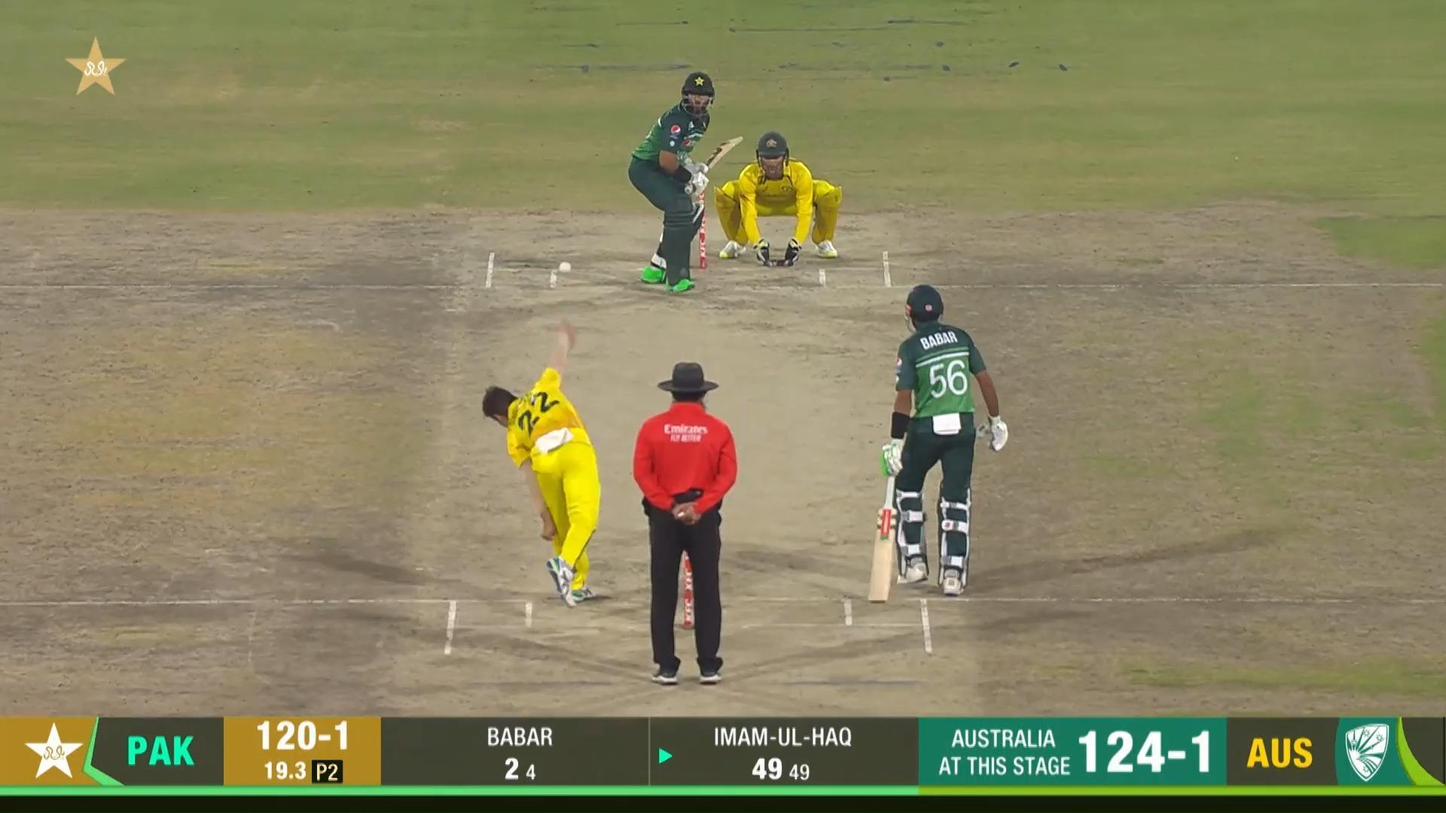BM 1: (627, 72, 746, 293)
BO: (482, 324, 602, 609)
